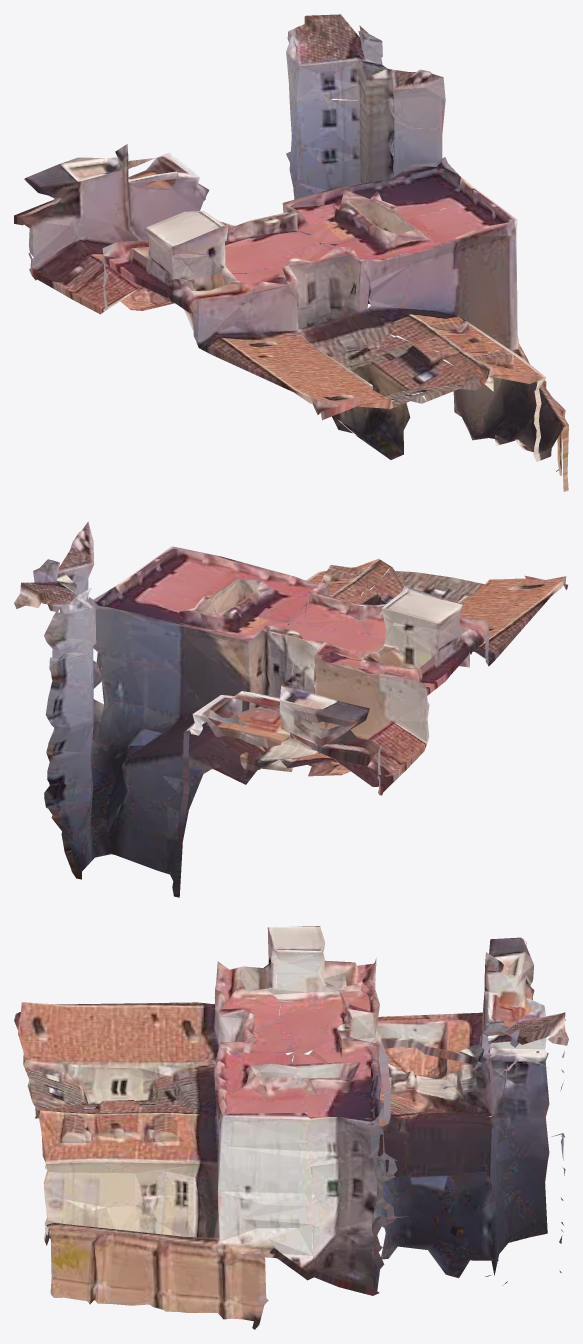
3 renders of one model, top to bottom at view 1: azimuth 30°, elevation 25°; view 2: azimuth 150°, elevation 25°; view 3: azimuth 270°, elevation 25°, orthographic. The views are drawn at different scales.
Visible parts, largest first — view 1: Mesh_0; view 2: Mesh_0; view 3: Mesh_0.
Boxes of the visible parts, x1,y1,x2,y2 form: Mesh_0: [14, 14, 568, 491]; Mesh_0: [14, 521, 567, 897]; Mesh_0: [14, 926, 568, 1329].
Size of the model in its own units: 31.62 by 24.03 by 41.39.
Materials: 2 (2 with a texture image).
